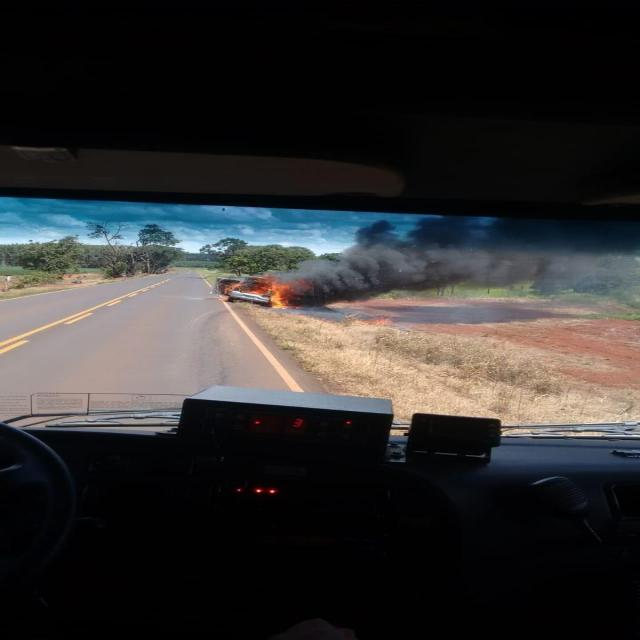Fire: (268, 280, 296, 308), (219, 284, 241, 294), (369, 317, 395, 325)
